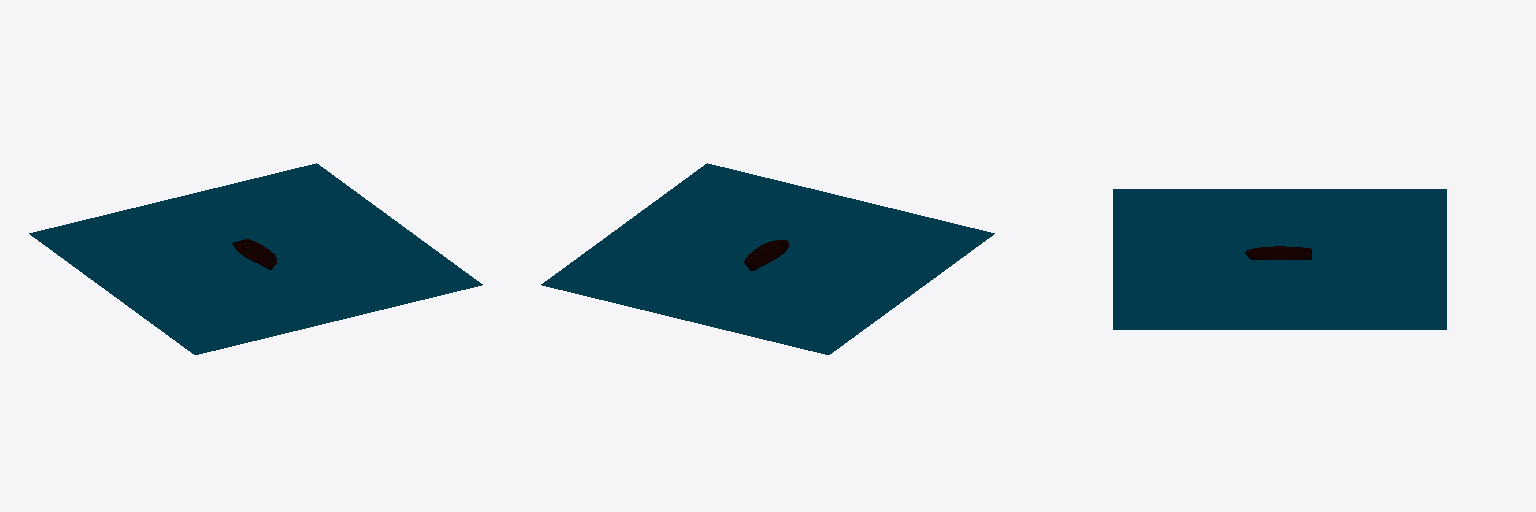
File: boat.obj
3 views of the same model, side by side, from view 1: azimuth 30°, elevation 25°; view 2: azimuth 150°, elevation 25°; view 3: azimuth 270°, elevation 25° (orthographic).
Parts seen in each view (by area): view 1: Plane_Plane.001, Circle; view 2: Plane_Plane.001, Circle; view 3: Plane_Plane.001, Circle.
Part boxes in pixels (left/top/right/bottom): Plane_Plane.001: left=29, top=163, right=482, bottom=354; Circle: left=232, top=239, right=277, bottom=269; Plane_Plane.001: left=541, top=163, right=994, bottom=354; Circle: left=744, top=240, right=789, bottom=270; Plane_Plane.001: left=1113, top=189, right=1446, bottom=329; Circle: left=1245, top=246, right=1311, bottom=259.
Size of the model in its own units: 22.15 by 0.4949 by 22.15.